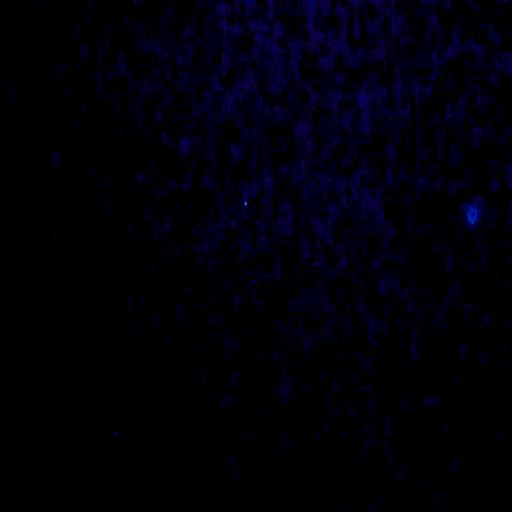object-detection-project: (244, 201, 247, 205)
